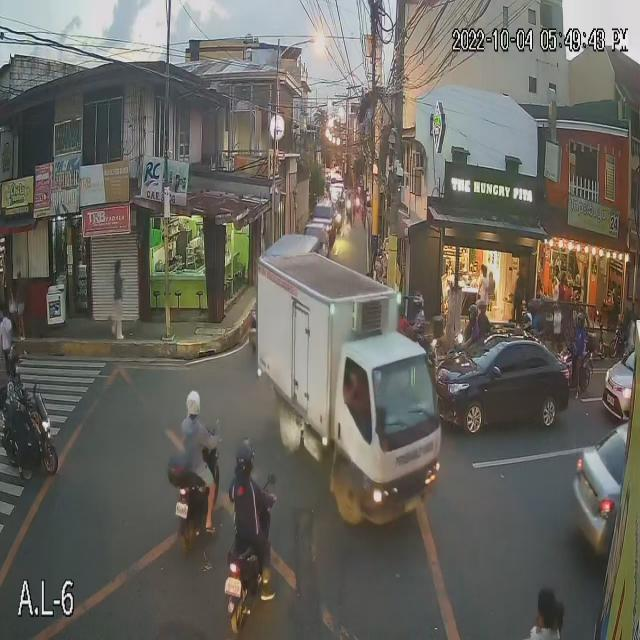helmet: (183, 381, 204, 427), (233, 438, 256, 479), (6, 344, 23, 378), (523, 295, 544, 320), (410, 293, 428, 318), (466, 301, 480, 326), (474, 297, 492, 315), (575, 313, 587, 329)
motorcycle: (167, 432, 224, 552), (222, 510, 275, 627), (0, 398, 53, 483), (556, 347, 598, 391)
rider: (225, 435, 273, 541), (178, 384, 208, 481), (3, 342, 25, 438), (518, 294, 552, 347), (407, 286, 433, 350), (470, 295, 496, 347), (574, 307, 595, 358), (460, 305, 480, 354)
